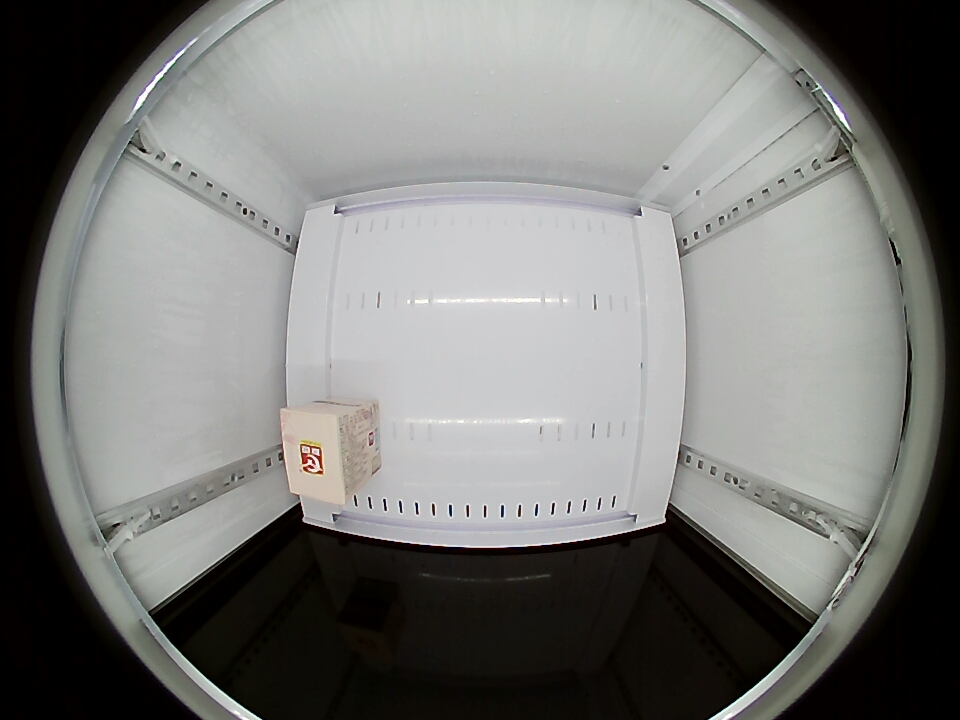rousongbing: (279, 403, 364, 506)
